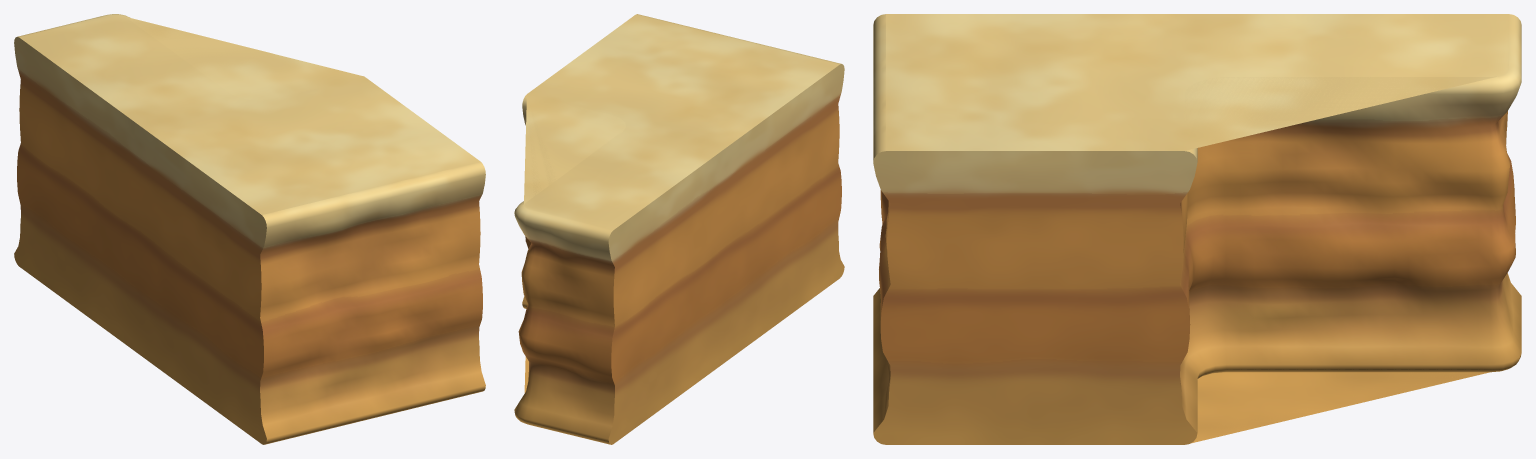
Rendered from SD_G03_Ground_InnerCorner.fbx.
3 renders of one model, left to right at view 1: azimuth 30°, elevation 25°; view 2: azimuth 150°, elevation 25°; view 3: azimuth 270°, elevation 25°, orthographic. The views are drawn at different scales.
Parts seen in each view (by area): view 1: SD_G03_Ground_InnerCorner; view 2: SD_G03_Ground_InnerCorner; view 3: SD_G03_Ground_InnerCorner.
Part boxes in pixels (x1,y1,x2,y2): SD_G03_Ground_InnerCorner: (14,14,485,444); SD_G03_Ground_InnerCorner: (514,14,844,444); SD_G03_Ground_InnerCorner: (873,14,1521,444).
Size of the model in its own units: 2 by 2 by 4.
